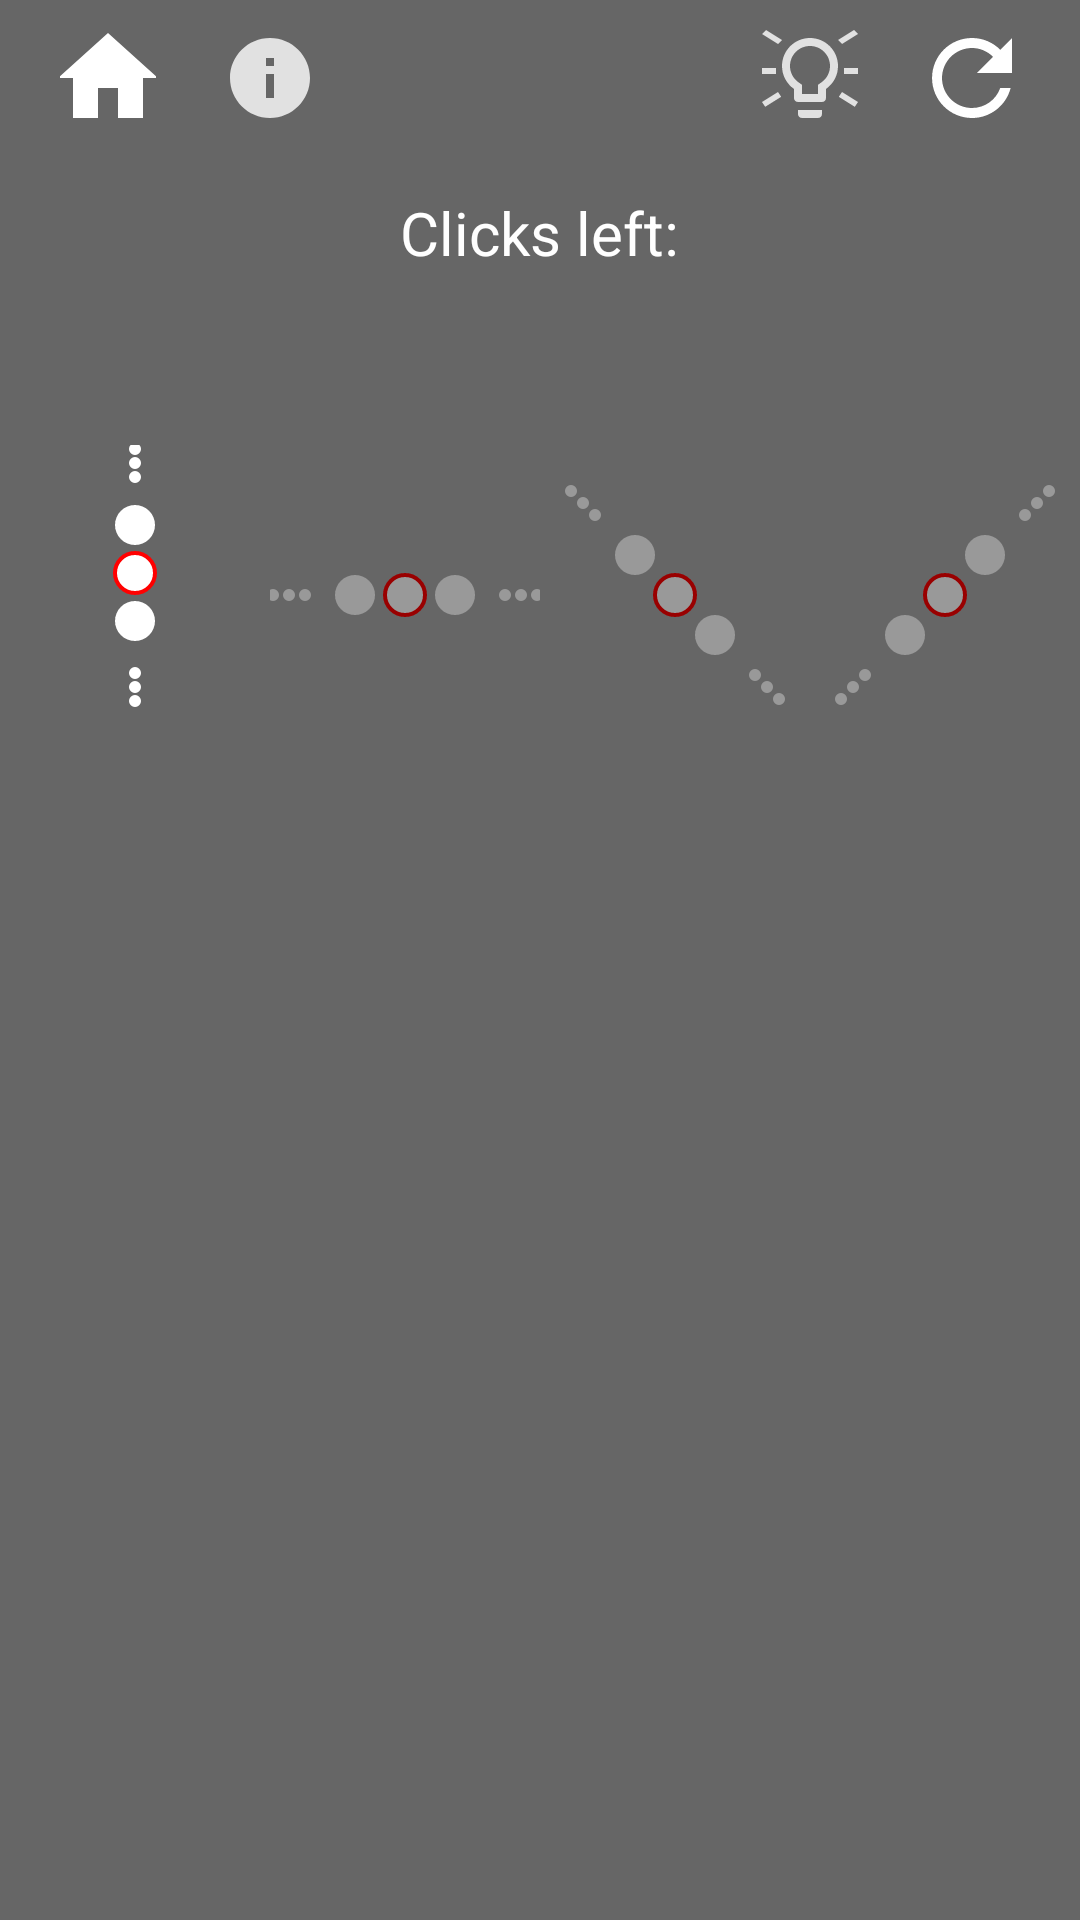

Locate icon controls on the screen. Image size 1080x1920, boxes as (x1, y1, x2, y2).
hint: (762, 30, 858, 118)
home: (60, 33, 156, 118)
info: (230, 38, 310, 118)
restart: (932, 38, 1012, 118)
